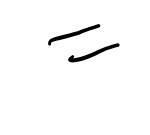eqv: (48, 24, 120, 62)
